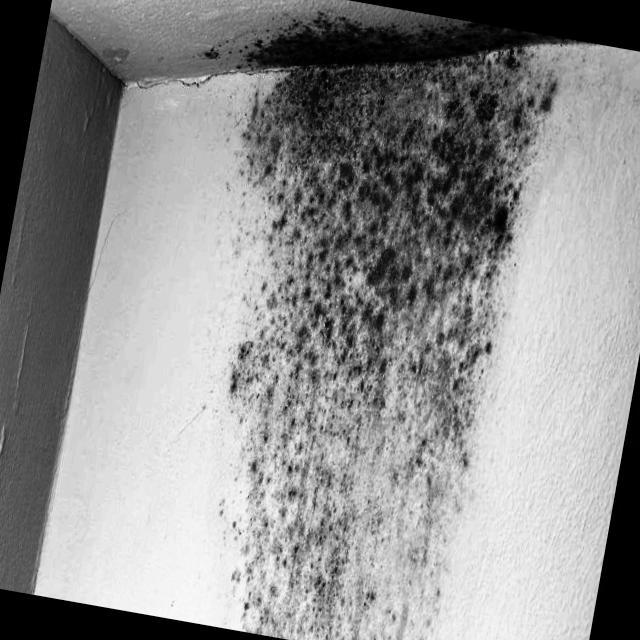stain marks: (206, 0, 558, 640)
